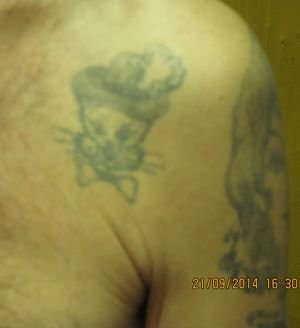tatu8_kot: (60, 37, 190, 204)
